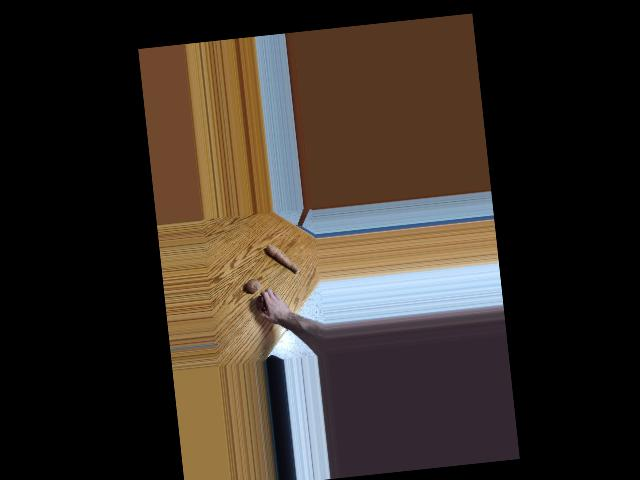onion: (248, 279, 260, 294)
